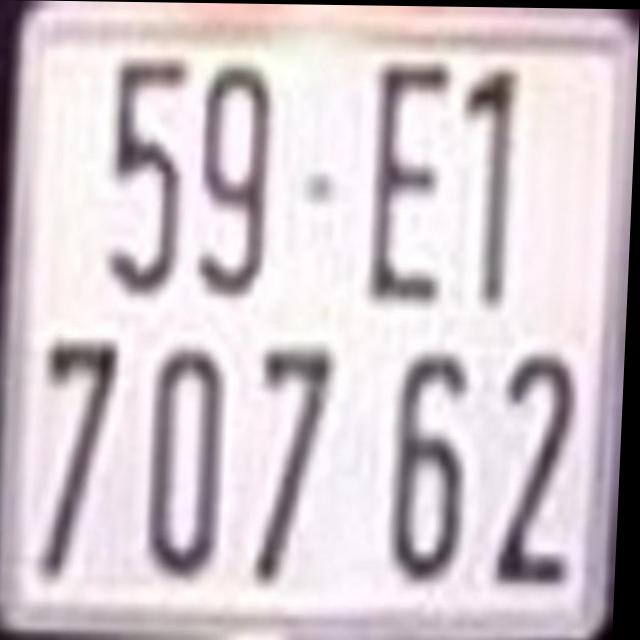0: (151, 343, 235, 575)
1: (464, 61, 519, 306)
2: (503, 350, 580, 596)
5: (103, 46, 195, 295)
6: (394, 350, 480, 583)
7: (252, 341, 336, 588), (40, 340, 121, 576)
9: (198, 61, 272, 290)
E: (368, 62, 454, 301)
